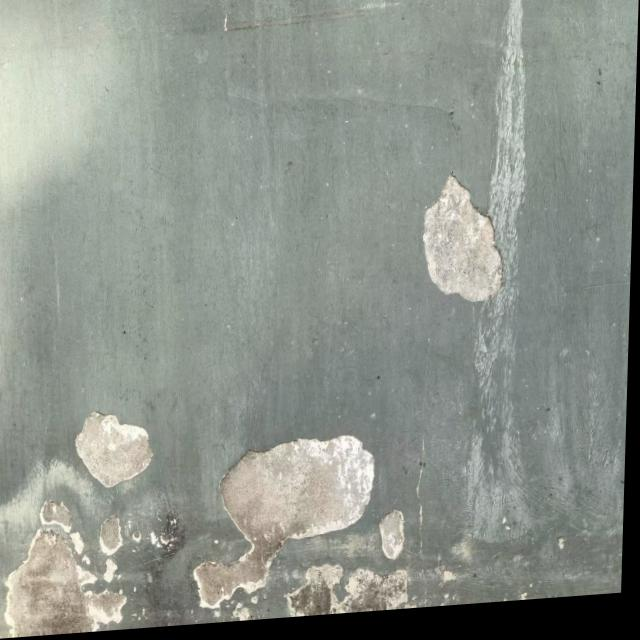spalling: (189, 431, 378, 608), (0, 493, 129, 634), (413, 165, 508, 299), (276, 562, 406, 617), (74, 411, 168, 487), (373, 499, 410, 559)
